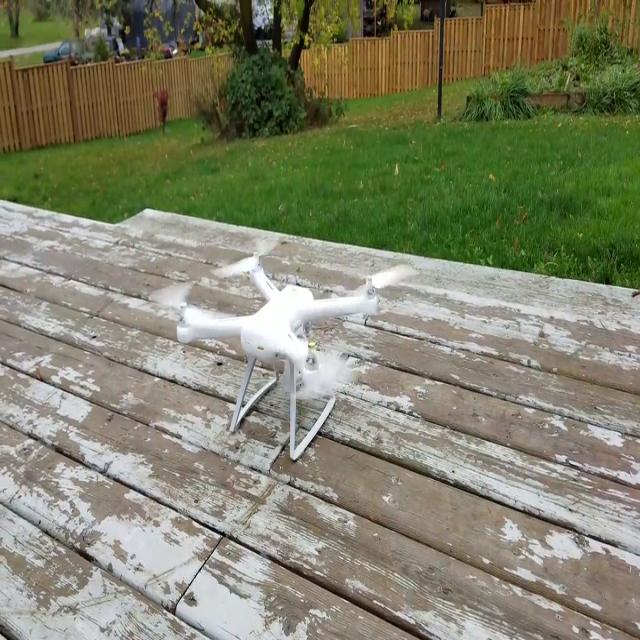drone: (150, 226, 416, 404)
